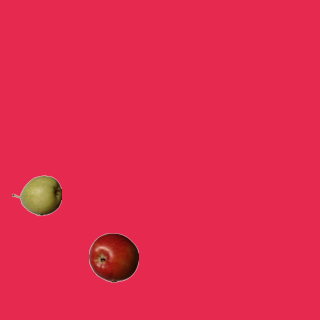Apple Braeburn: (88, 232, 138, 282)
Pear: (11, 170, 61, 220)
